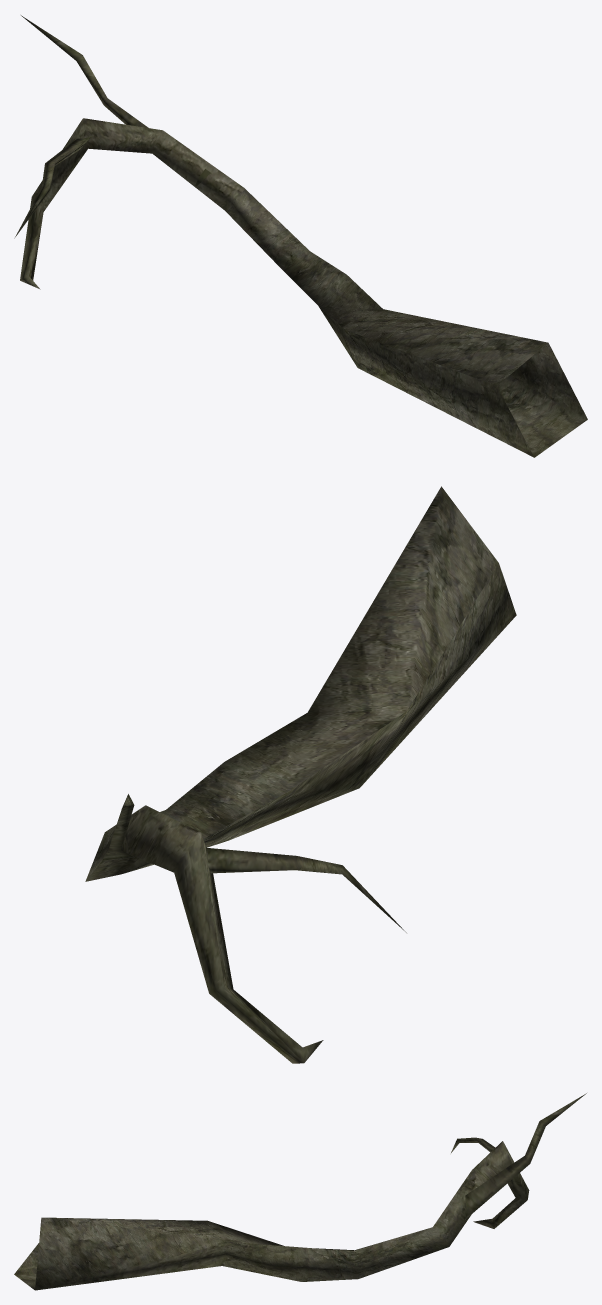
Rendered from TI_Old_Tree_Branch_06.fbx.
The picture shows the model from 3 angles, top to bottom: view 1: azimuth 30°, elevation 25°; view 2: azimuth 150°, elevation 25°; view 3: azimuth 270°, elevation 25°; orthographic projection. The views are drawn at different scales.
Visible parts, largest first — view 1: TI_Old_Tree_Branch_06; view 2: TI_Old_Tree_Branch_06; view 3: TI_Old_Tree_Branch_06.
Boxes of the visible parts, x1,y1,x2,y2 form: TI_Old_Tree_Branch_06: (14, 15, 587, 457); TI_Old_Tree_Branch_06: (85, 486, 516, 1063); TI_Old_Tree_Branch_06: (14, 1093, 586, 1290).
Size of the model in its own units: 3 by 2.08 by 7.
